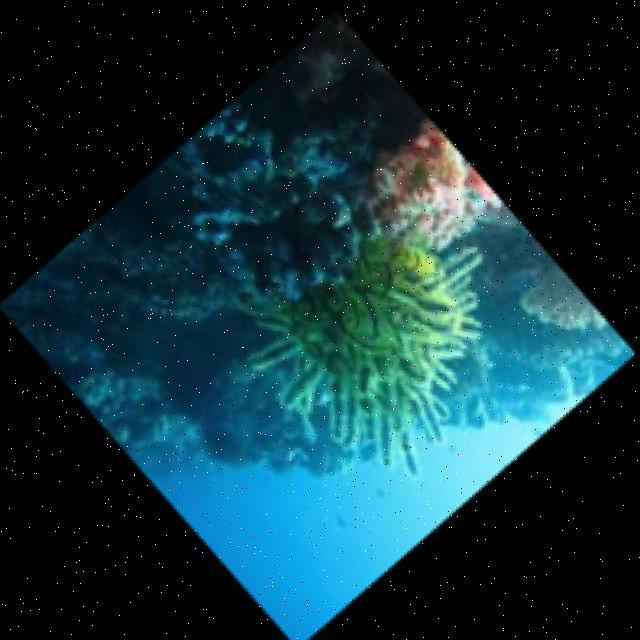Healthy Coral: (214, 175, 515, 501)
